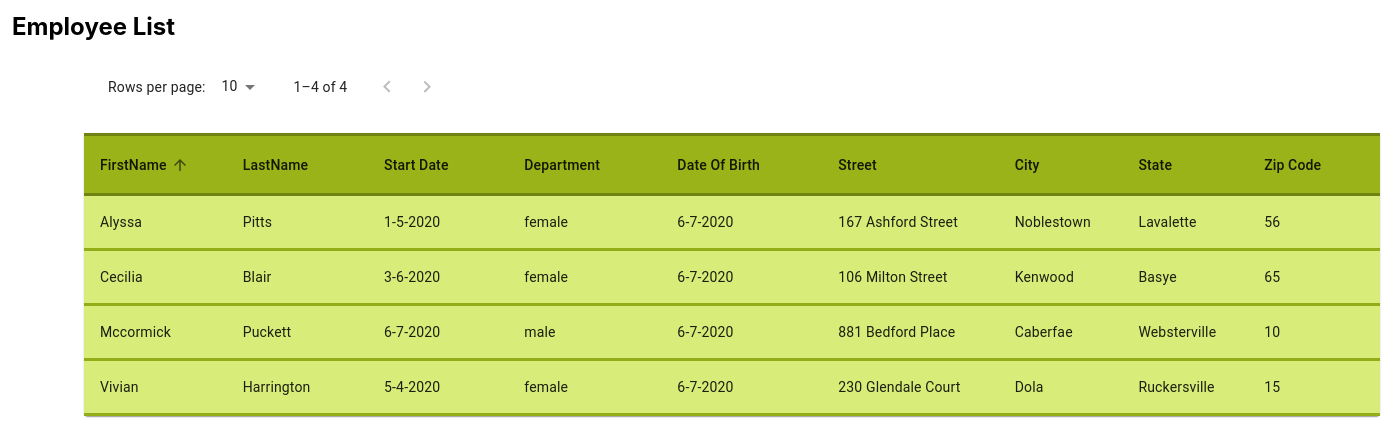
Test case: Quand le tableau est affiché › Quand on veut trier de manière croissante › on filtre les noms par ordre croissant
Click the button "LastName": (275, 165) [243,157,308,173]
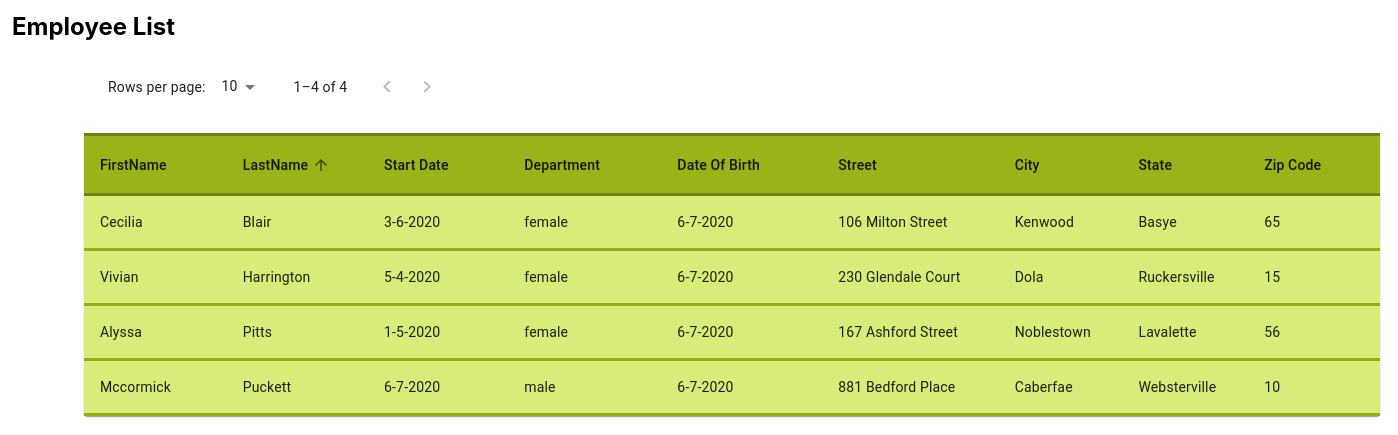
Result: the cell with test id "lastName" reads "Blair" at [243,214,271,230]
